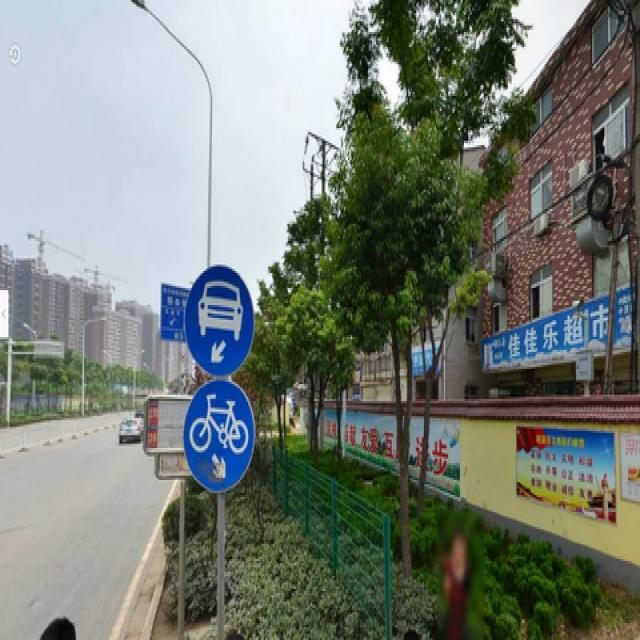koel: (399, 17, 493, 128)
